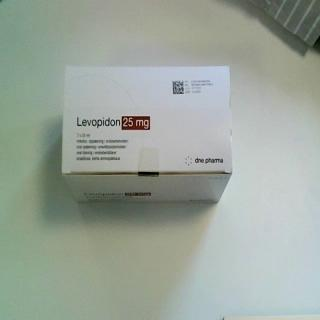levopidon25mg: (61, 62, 235, 206)
